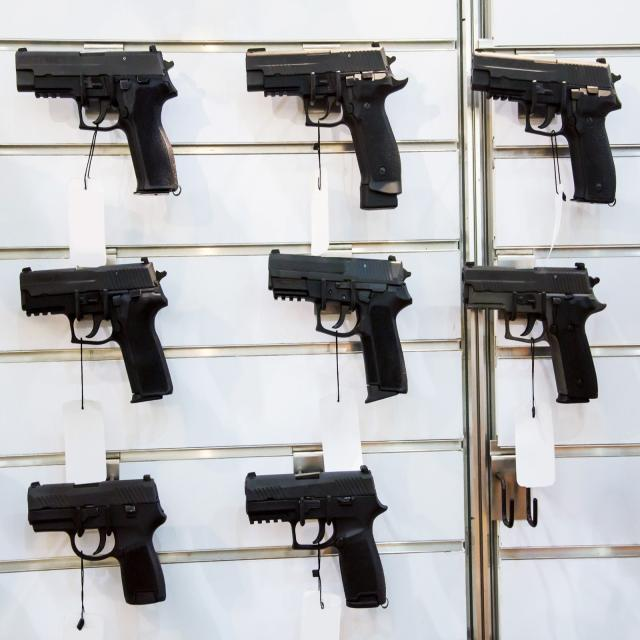HandGun: (246, 47, 409, 211), (15, 45, 180, 196), (471, 51, 622, 206), (20, 263, 172, 404), (244, 465, 389, 610), (267, 254, 412, 398), (462, 262, 607, 405), (27, 477, 168, 609)
